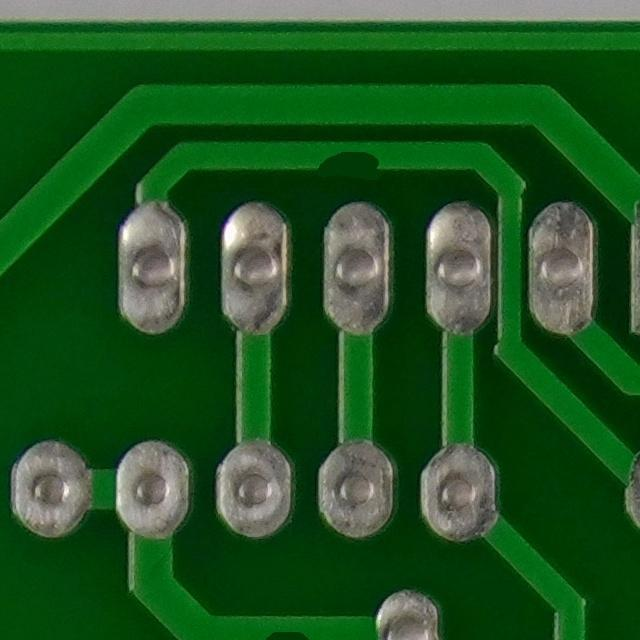mouse_bite: (299, 127, 397, 188), (241, 606, 331, 640)
